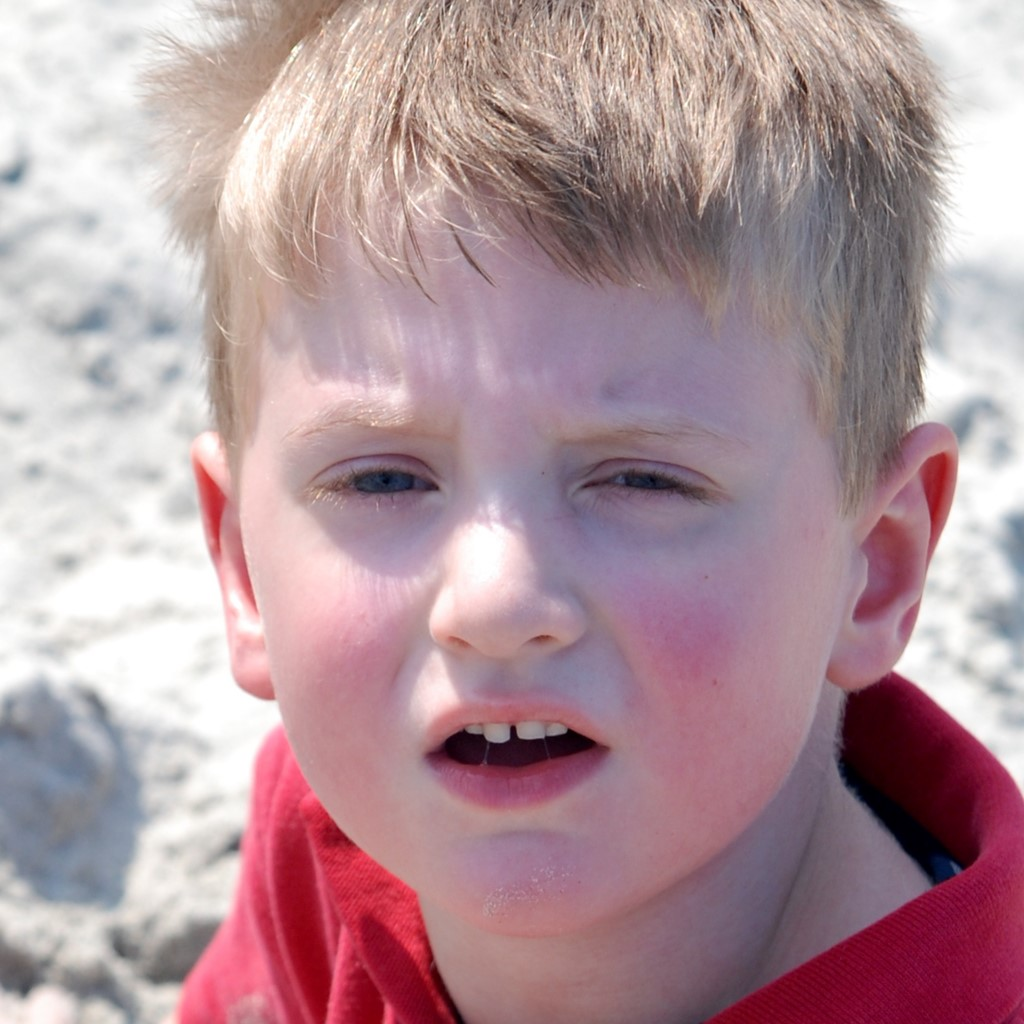sin_mascara: (236, 138, 872, 916)
